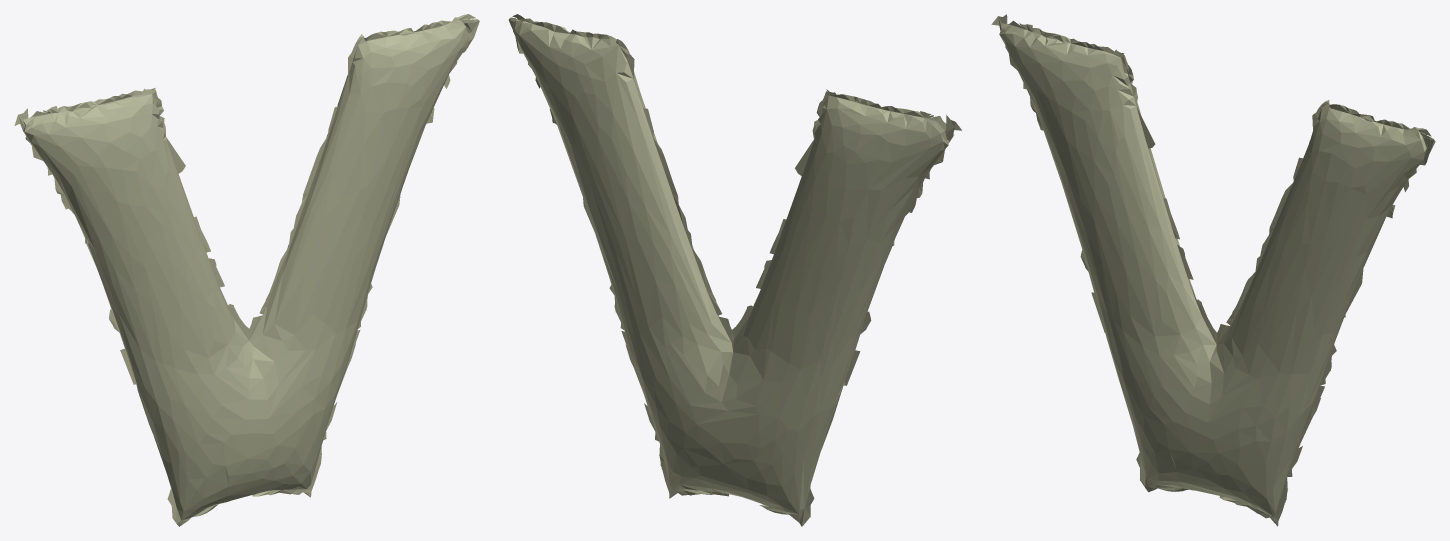
The model's file is tinker.obj.
3 views of the same model, side by side, from view 1: azimuth 30°, elevation 25°; view 2: azimuth 150°, elevation 25°; view 3: azimuth 330°, elevation 25° (orthographic). The views are drawn at different scales.
Parts seen in each view (by area): view 1: obj_0; view 2: obj_0; view 3: obj_0.
Part boxes in pixels (box(x1,y1,x2,y2)): obj_0: box(14, 14, 479, 526); obj_0: box(508, 14, 961, 526); obj_0: box(991, 14, 1435, 526).
Bounding box in the file's own units: 15.69 × 14.86 × 1.69.
